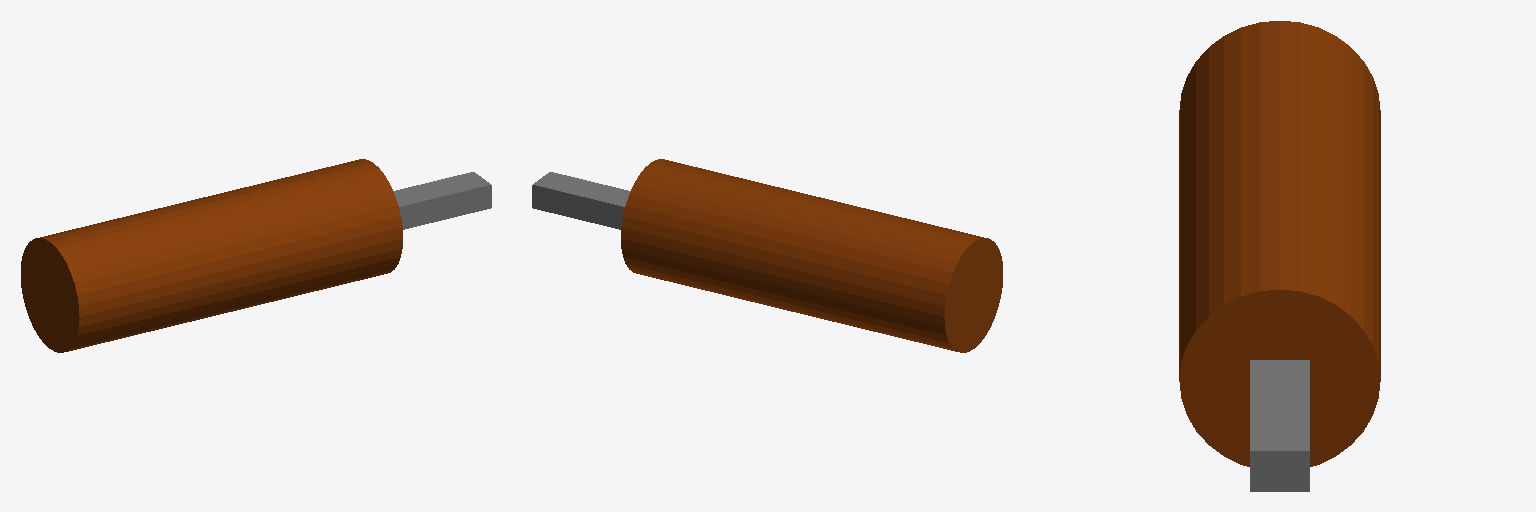
robot.urdf — handle_head:
<?xml version="1.0"?>
<robot name="handle_head">

  <link name="handle_head">
    <!-- Handle -->
    <visual>
              <origin xyz="0 0 0" rpy="0 -1.5707963267948966 0"/>
        <geometry>
          <cylinder length="0.08656424517188457" radius="0.013684540590432278"/>
        </geometry>
        
      <material name="brown">
        <color rgba="0.55 0.27 0.07 1.0"/>
      </material>
    </visual>
    <collision>
              <origin xyz="0 0 0" rpy="0 -1.5707963267948966 0"/>
        <geometry>
          <cylinder length="0.08656424517188457" radius="0.013684540590432278"/>
        </geometry>
        
    </collision>

    <!-- Head -->
    <visual>
              <origin xyz="0.05784685993980885 0 0" rpy="0 0 0"/>
        <geometry>
          <box size="0.029129474707733125 0.008243765592312496 0.006081553958622239"/>
        </geometry>
        
      <material name="gray">
        <color rgba="0.5 0.5 0.5 1.0"/>
      </material>
    </visual>
    <collision>
              <origin xyz="0.05784685993980885 0 0" rpy="0 0 0"/>
        <geometry>
          <box size="0.029129474707733125 0.008243765592312496 0.006081553958622239"/>
        </geometry>
        
    </collision>

    <inertial>
      <origin xyz="0.0011555564735861242 0 0" rpy="0 0 0"/>
      <mass value="0.028192798627320624"/>
      <inertia ixx="2.5019038870722807e-06" iyy="2.8714141024861846e-05" izz="2.8715594711661775e-05" ixy="0" ixz="0" iyz="0"/>
    </inertial>
  </link>

</robot>

--- Render facts (derived) ---
3 views of the same robot in one strip: view 1: azimuth 30°, elevation 25°; view 2: azimuth 150°, elevation 25°; view 3: azimuth 270°, elevation 25° (orthographic).
Robot: handle_head — 1 links, 0 joints (none); root link handle_head; default pose: every joint at zero.
Visible links, largest first — view 1: handle_head; view 2: handle_head; view 3: handle_head.
Link boxes in pixels (box(x1,y1,x2,y2)): handle_head: box(21, 159, 491, 352); handle_head: box(532, 159, 1002, 352); handle_head: box(1179, 21, 1380, 491).
Bounding box of the posed robot: 0.1157 × 0.0274 × 0.0274 m (x, y, z).
Geometry: primitives only (box / cylinder / sphere), no mesh files.
